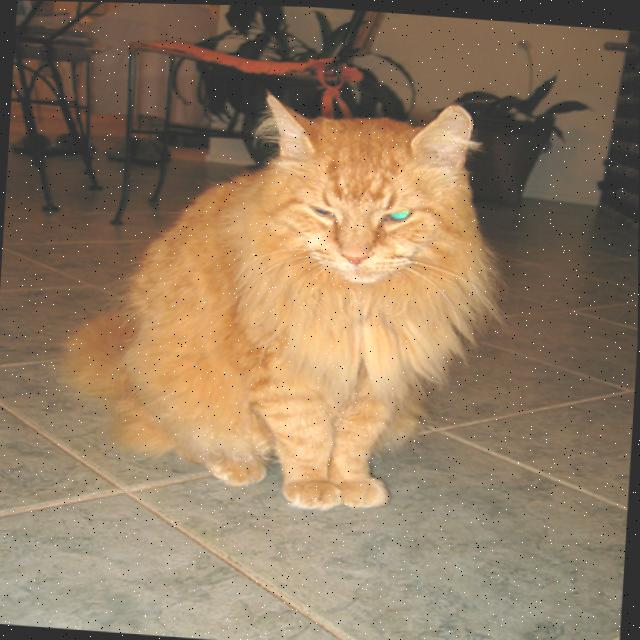Maine Coon: (52, 69, 509, 524)
